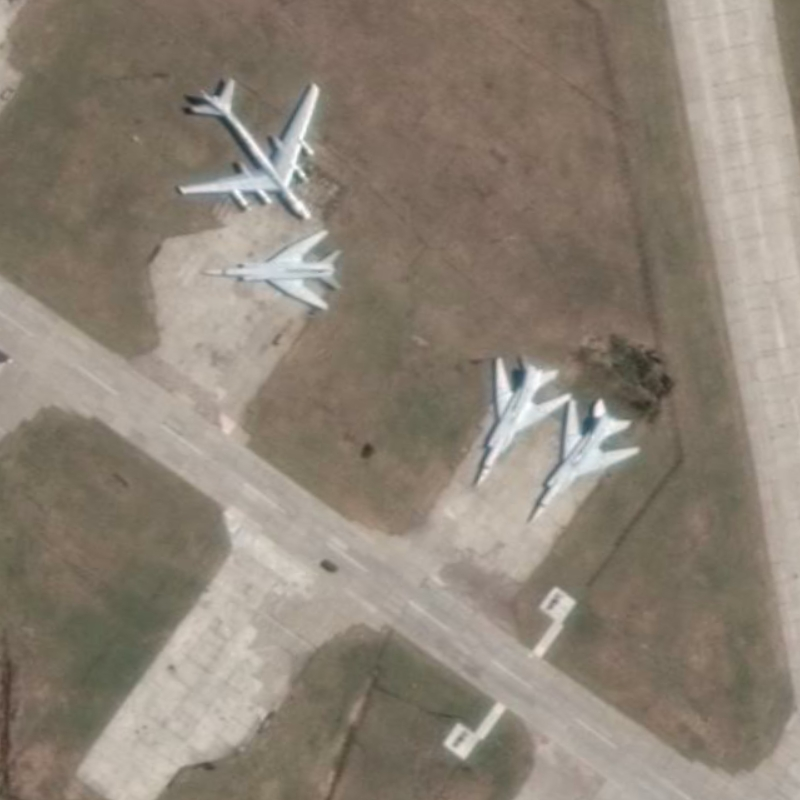A12: (527, 395, 643, 526), (474, 352, 576, 487), (198, 227, 344, 312)
A17: (174, 75, 322, 223)
